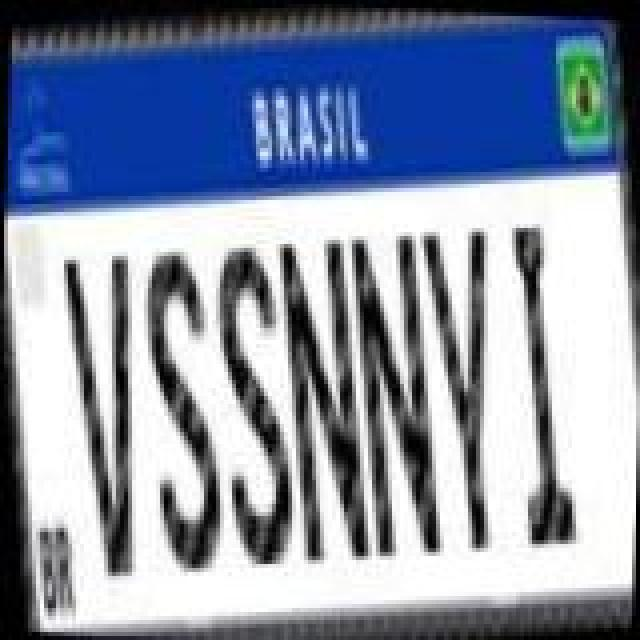I: (486, 214, 590, 550)
N: (334, 220, 454, 560), (264, 226, 380, 566)
S: (124, 236, 240, 576), (196, 230, 312, 570)
V: (48, 244, 168, 584)
Y: (404, 216, 520, 556)
